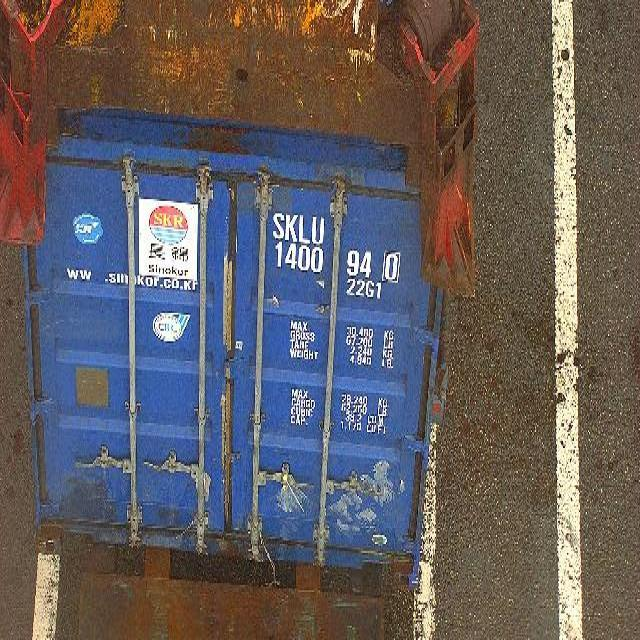ISO: (346, 278, 382, 300)
container_number: (266, 208, 409, 274)
